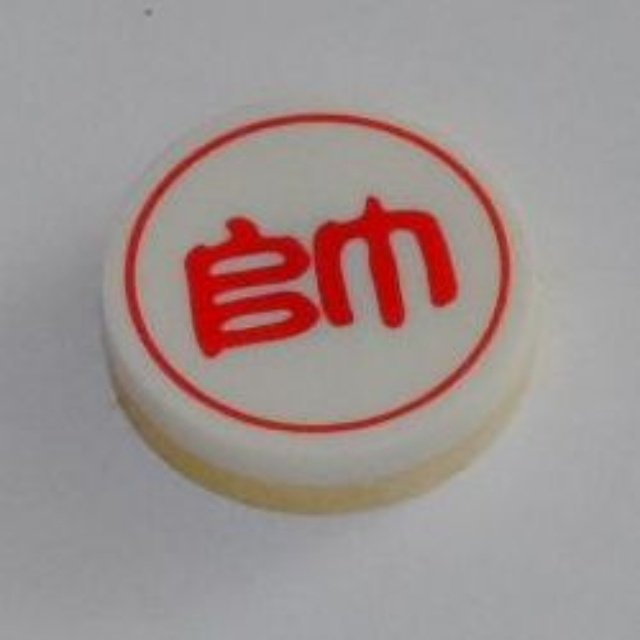red_tuong: (94, 85, 568, 515)
